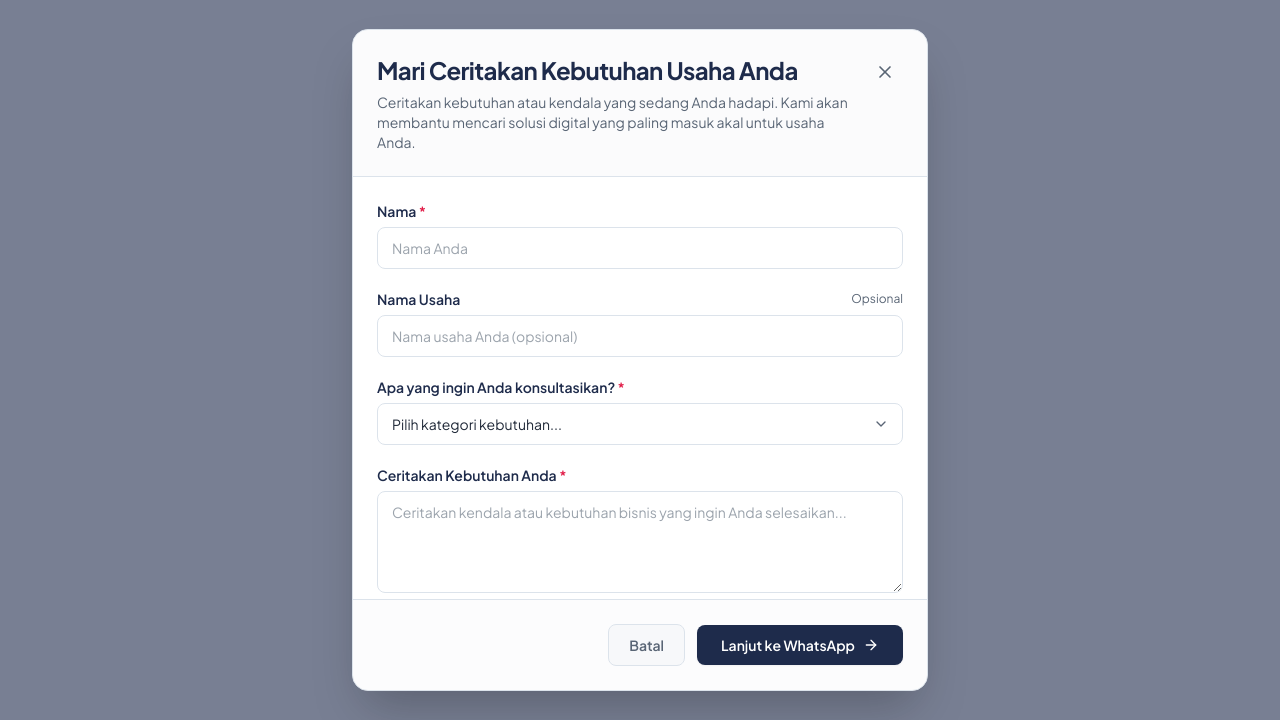
ConsultationModal Component › clears validation error when user fills in the field
Click the button "Lanjut ke WhatsApp". click: (800, 645)
box: [697,625,903,665]
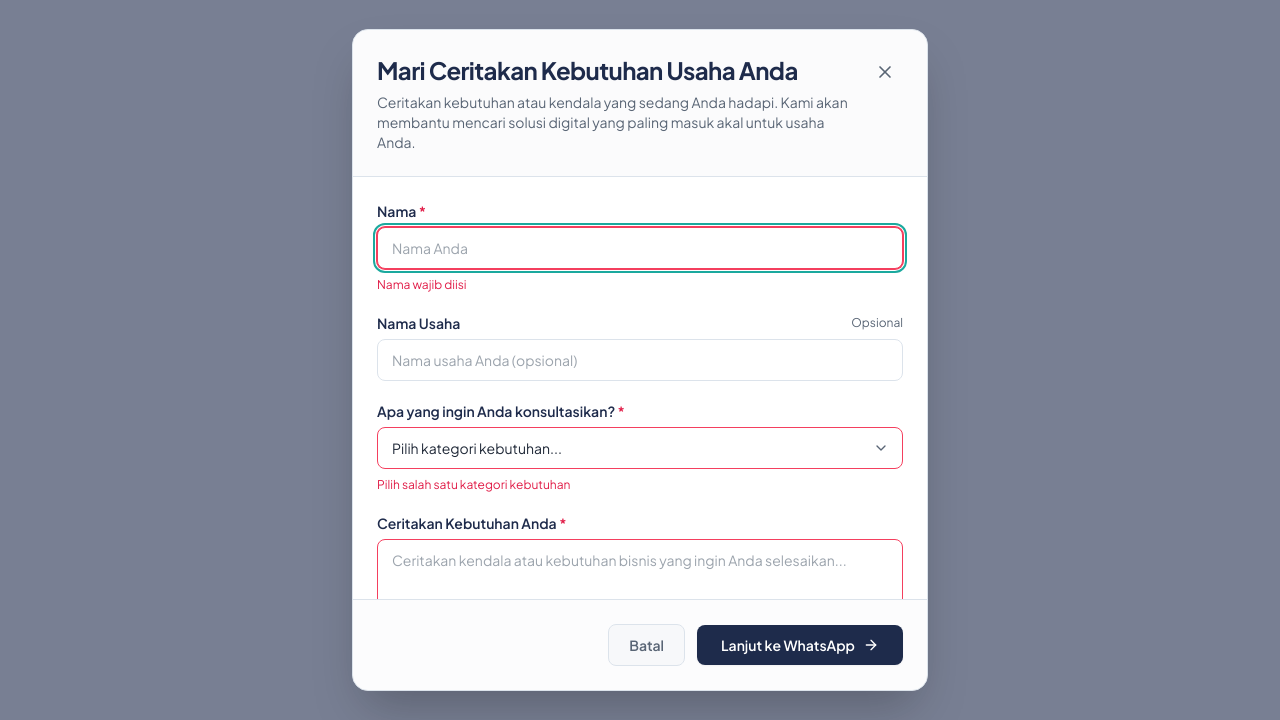
Check: the text "Nama wajib diisi" is shown, box [377,277,467,292]
Type "Budi" into the field with placeholder "Nama Anda". click: (640, 248)
box: [377,227,903,269]
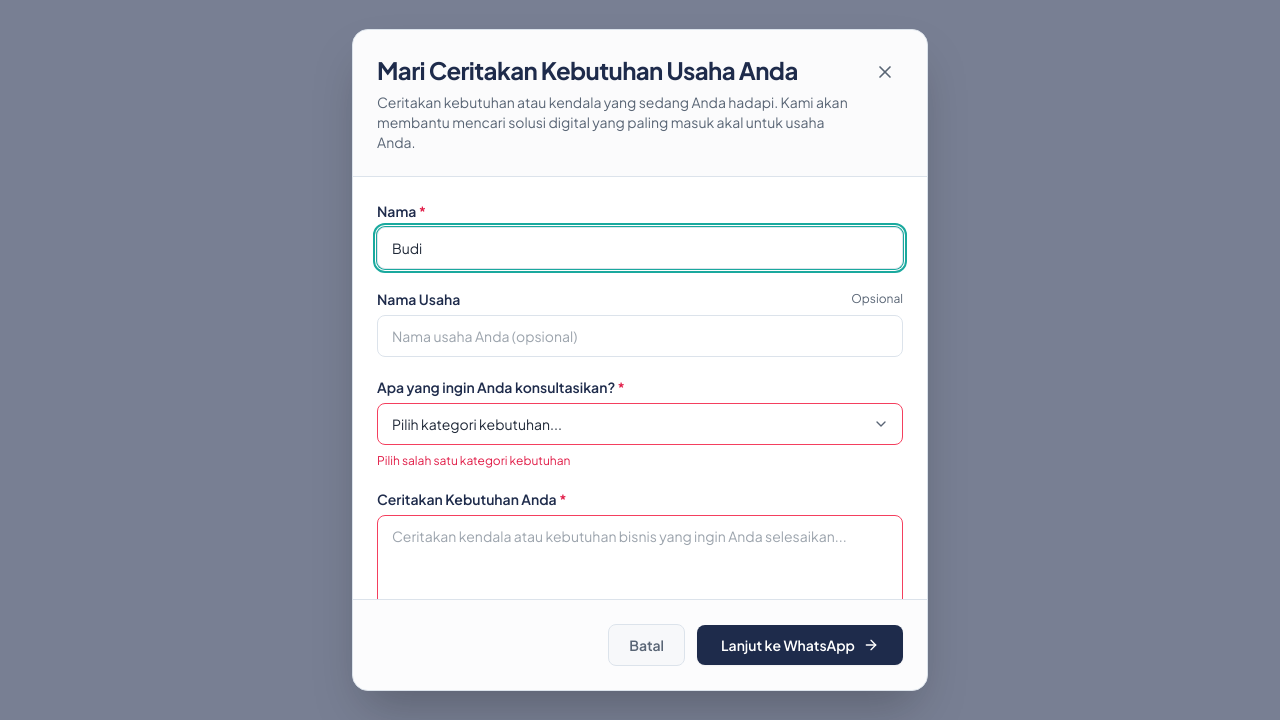
Check: the text "Nama wajib diisi" is gone
